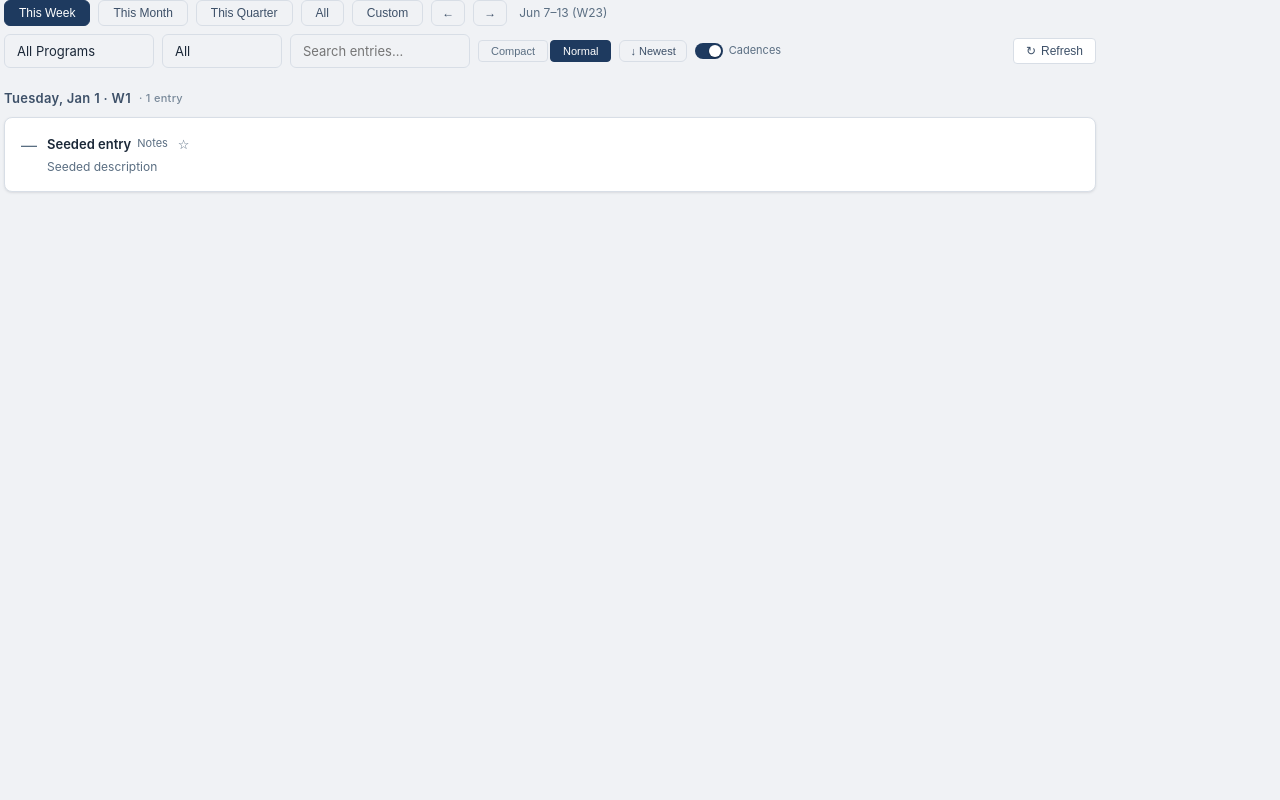
Test case: TimelineView — entry edit modal dirty-state close guard (Task 9.14) › dirty Esc opens the DiscardConfirmDialog
Click the text "Seeded entry".
click(89, 144)  # box x1=47 y1=134 x2=131 y2=155
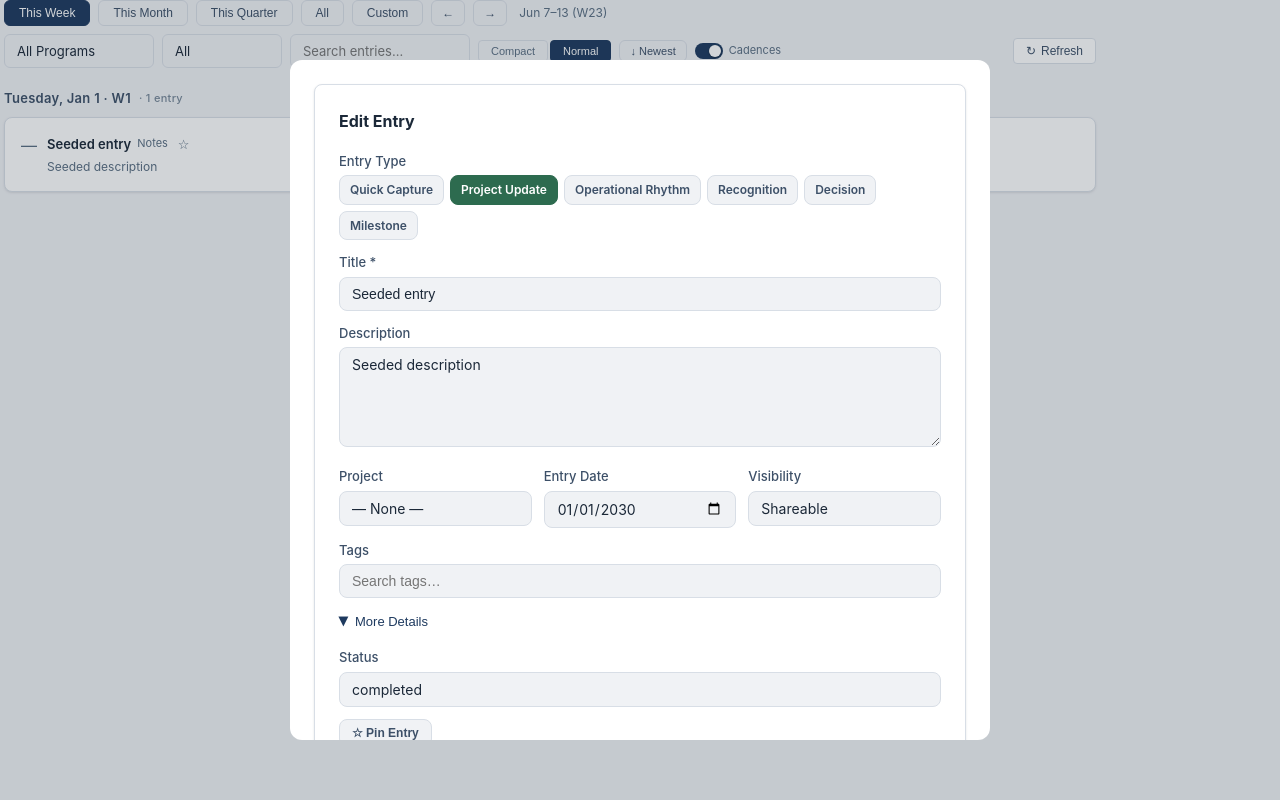
Replace the text in the field showing "Seeded entry" with "Seeded entry edited" at {"x": 640, "y": 294}, box x1=339 y1=277 x2=941 y2=311
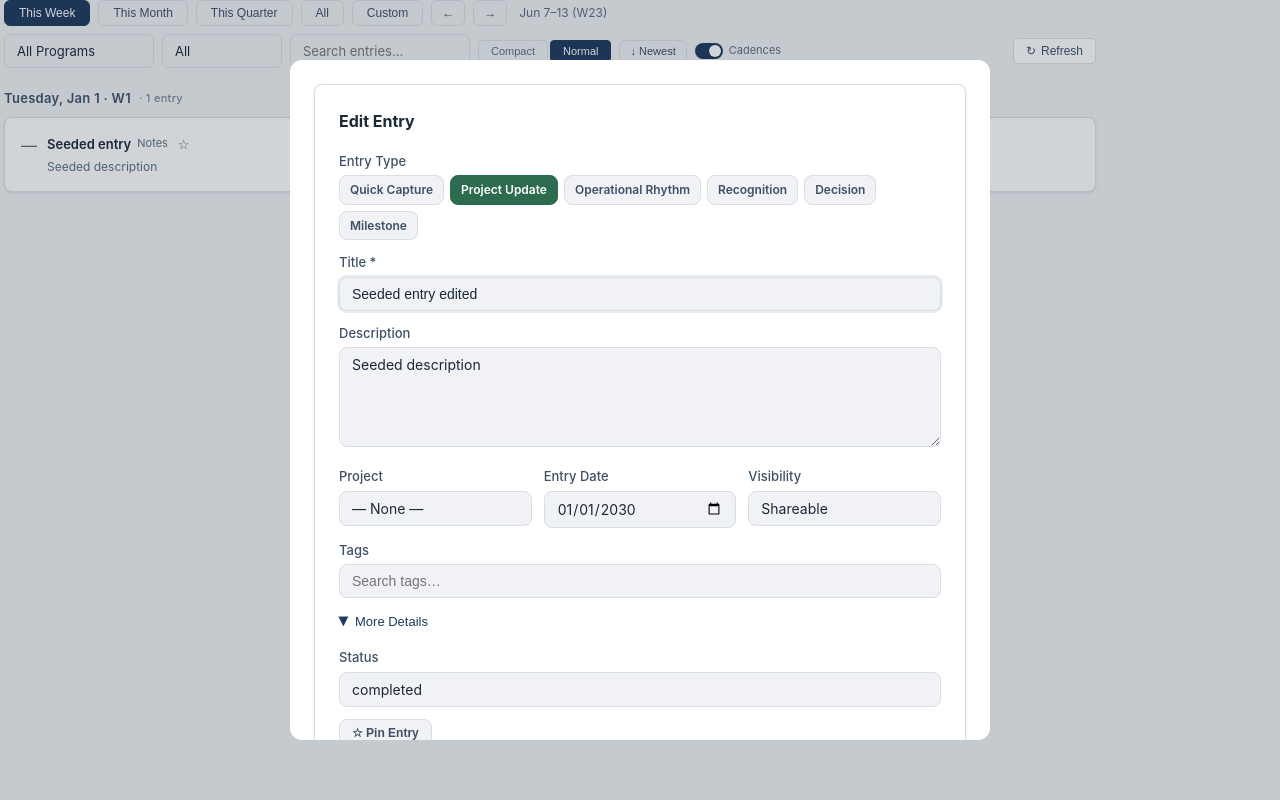
Press Escape in the dialog "Edit Entry"
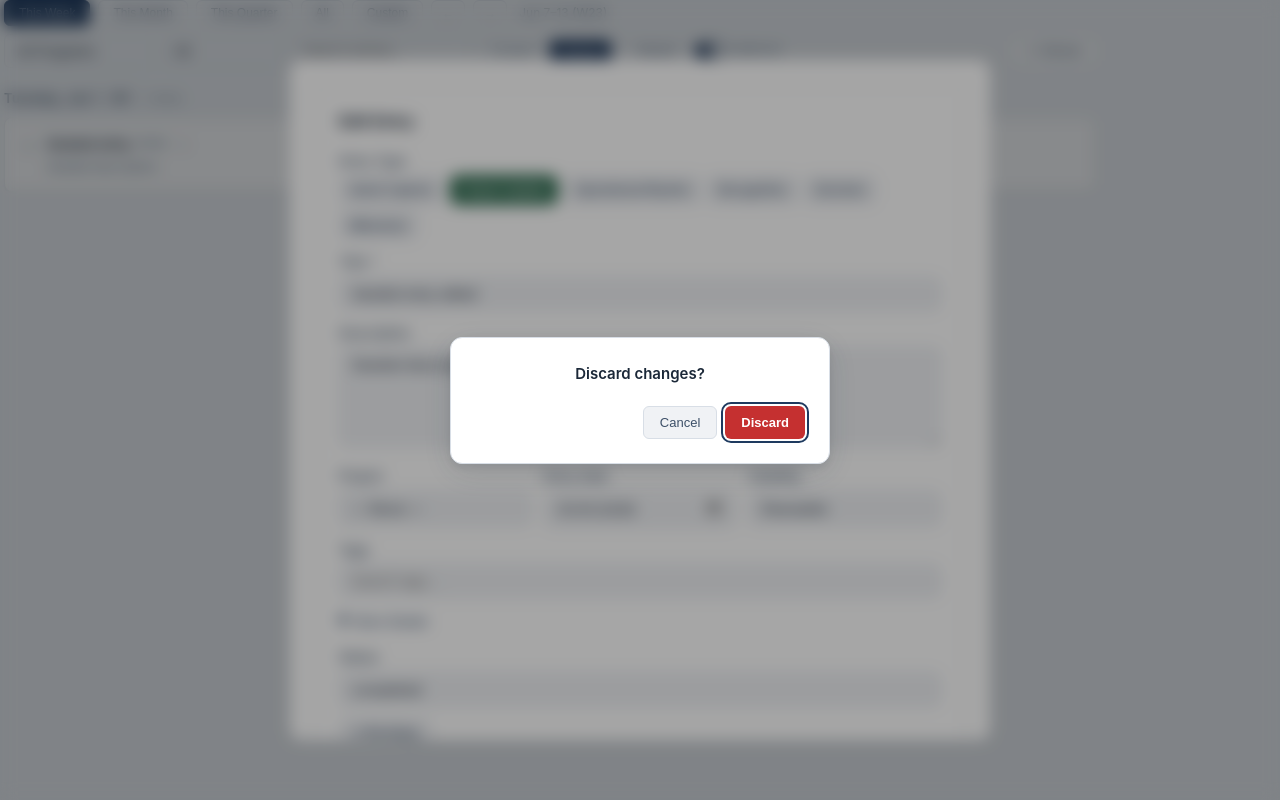
Result: the dialog "Discard changes? Cancel Discard" is shown at x1=450 y1=336 x2=830 y2=464
